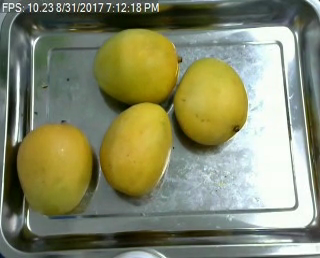Mango: (15, 120, 98, 220), (99, 101, 179, 201), (168, 55, 249, 148), (88, 28, 184, 106)
